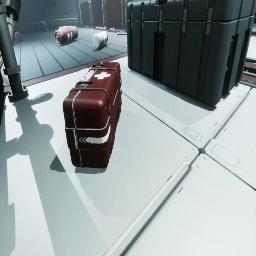0: (93, 31, 108, 49), (55, 26, 72, 31)
FireExtinguisher ]: (15, 32, 23, 41)
FirstAidBox ,: (63, 62, 122, 168)
NitrogenTank ,: (55, 26, 78, 44), (89, 25, 94, 27)
